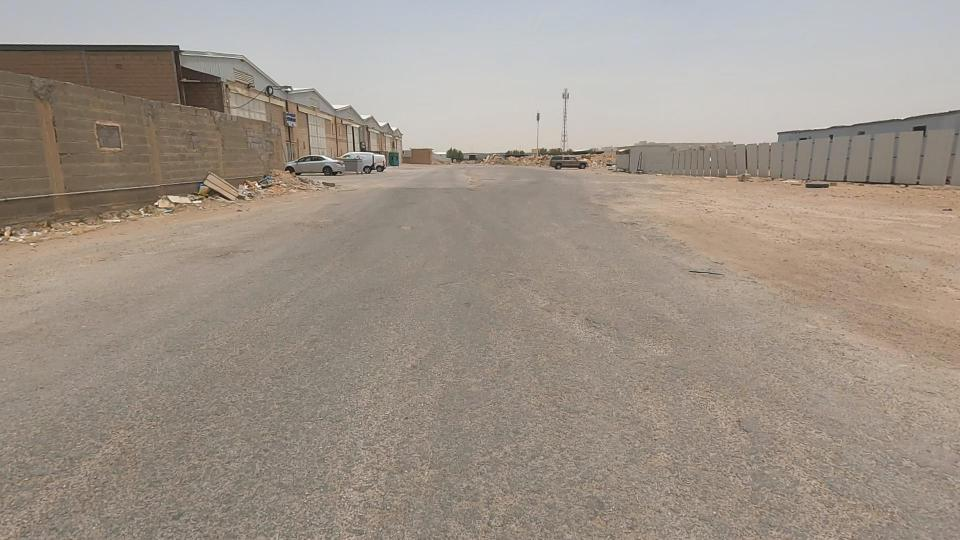GARBAGE: (145, 158, 296, 231), (754, 160, 866, 215), (220, 150, 306, 220), (0, 205, 89, 269), (123, 180, 211, 227), (62, 194, 143, 245)
